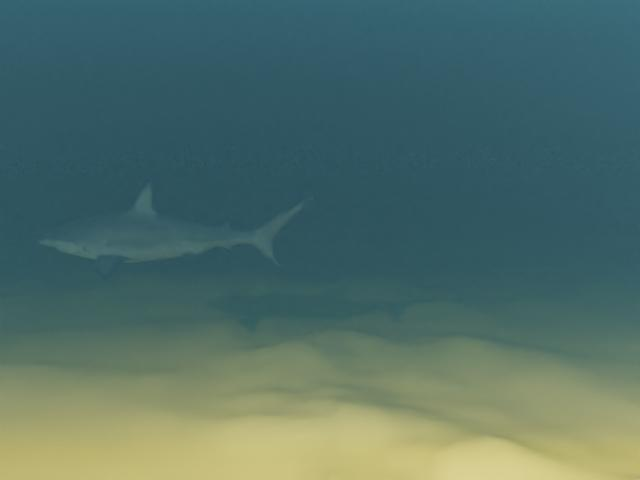Carribean Shark.001: (38, 182, 313, 280)
